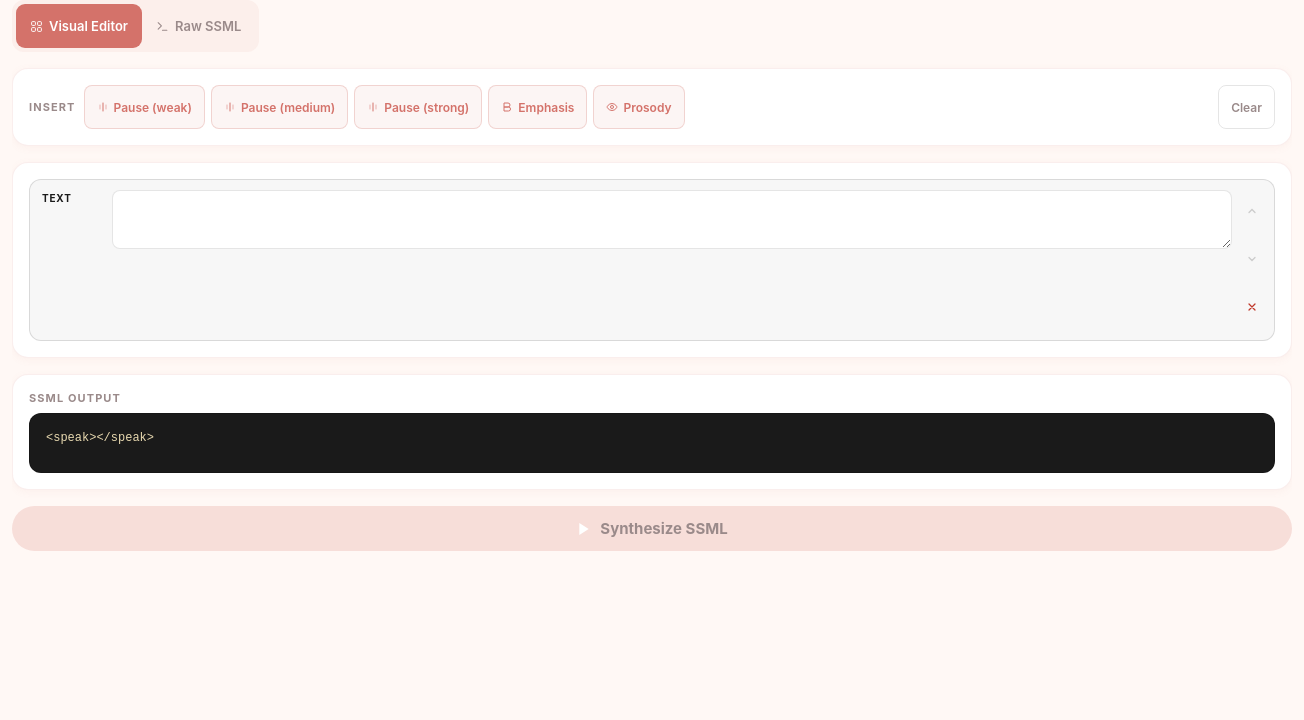
Test case: text node editing › escapes & in SSML output
In the text box named "Text content": coordinates (672, 219) [112,190,1232,249], type "cats & dogs"
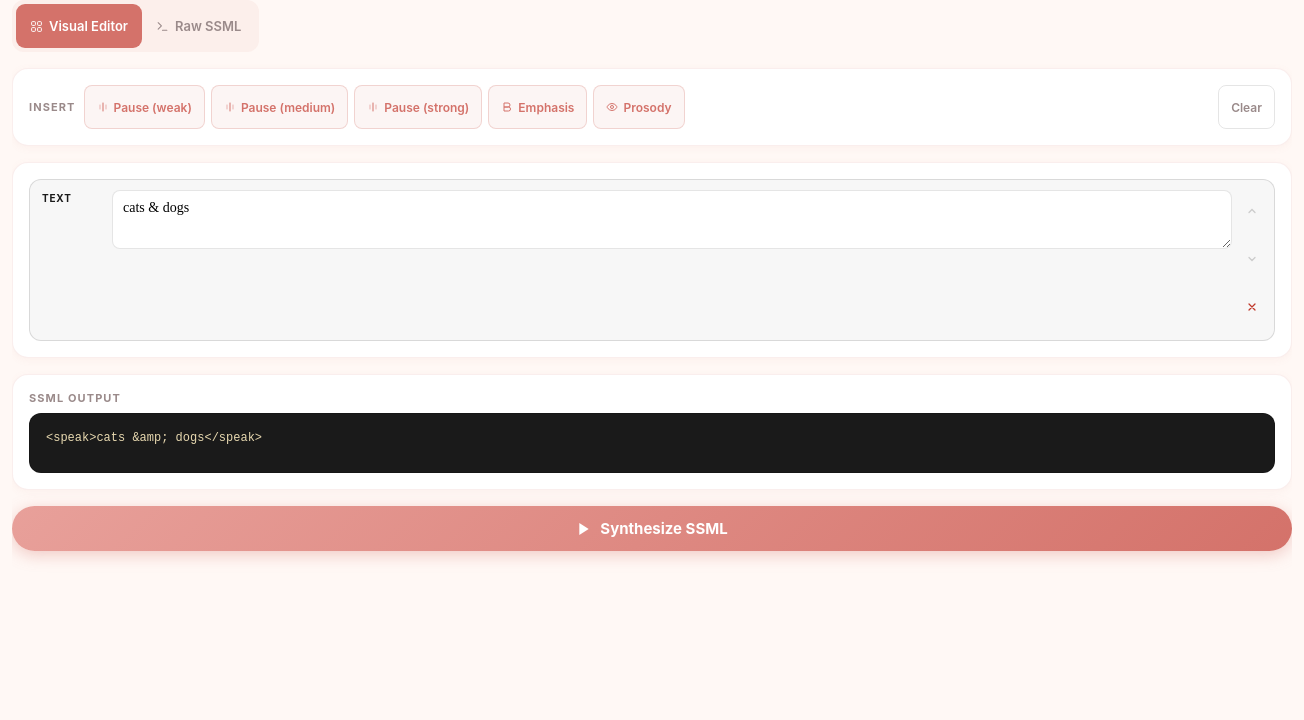
Expected: the text named "Generated SSML" shows "&amp;", [46,431,262,445]
